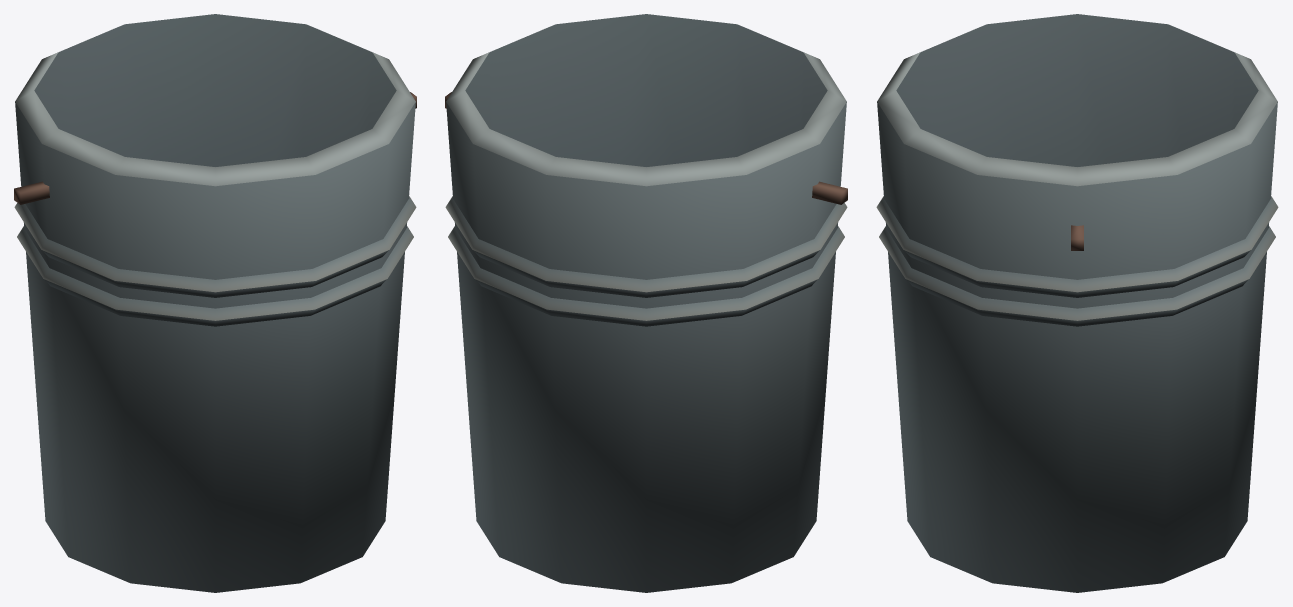
Rendered from R_Bucket.fbx.
The picture shows the model from 3 angles, left to right: view 1: azimuth 30°, elevation 25°; view 2: azimuth 150°, elevation 25°; view 3: azimuth 270°, elevation 25°; orthographic projection.
Visible parts, largest first — view 1: R_Bucket.001; view 2: R_Bucket.001; view 3: R_Bucket.001.
Boxes of the visible parts, x1,y1,x2,y2 form: R_Bucket.001: (14,14,416,592); R_Bucket.001: (445,14,847,592); R_Bucket.001: (876,14,1278,592).
Bounding box in the file's own units: 0.4334 × 0.45 × 0.3809.
